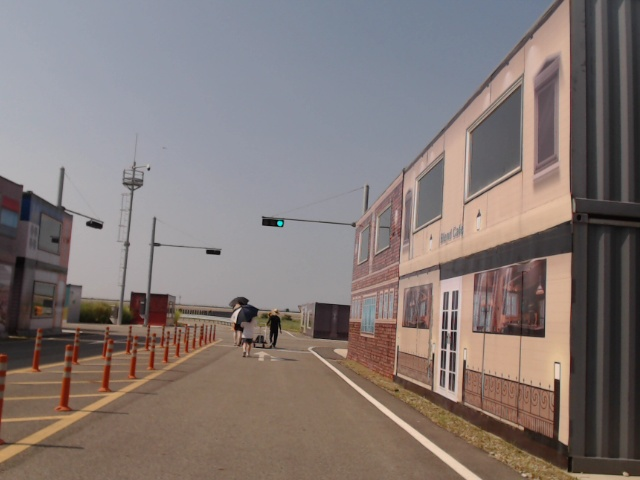green_3: (262, 218, 284, 228)
